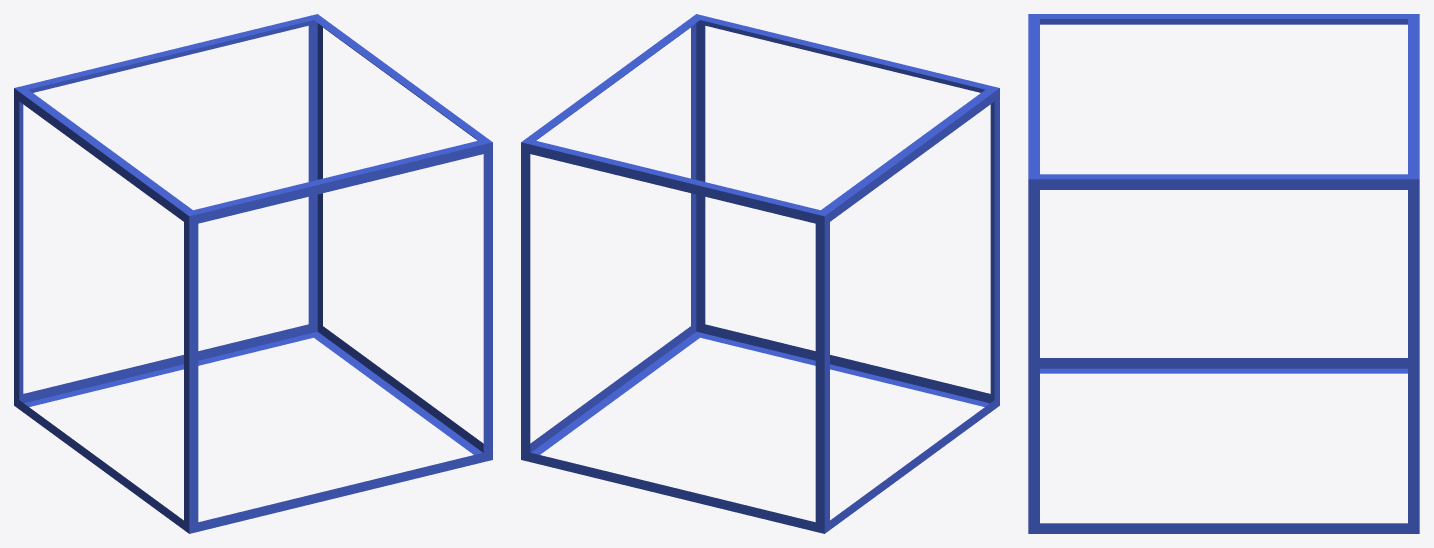
The picture shows the model from 3 angles, left to right: view 1: azimuth 30°, elevation 25°; view 2: azimuth 150°, elevation 25°; view 3: azimuth 270°, elevation 25°; orthographic projection. The views are drawn at different scales.
Visible parts, largest first — view 1: Куб.005; view 2: Куб.005; view 3: Куб.005.
Boxes of the visible parts, x1,y1,x2,y2 form: Куб.005: (14, 14, 492, 533); Куб.005: (521, 14, 999, 533); Куб.005: (1028, 14, 1419, 533).
Size of the model in its own units: 2 by 2 by 2.
